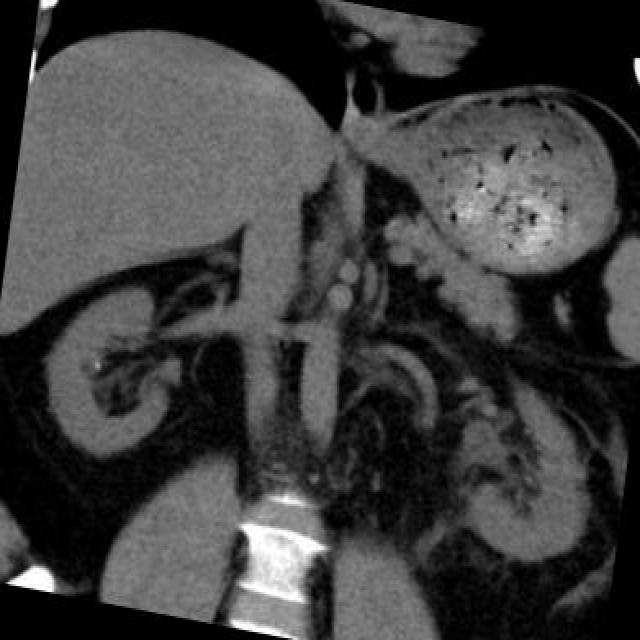Tas_Var: (88, 356, 105, 376)
